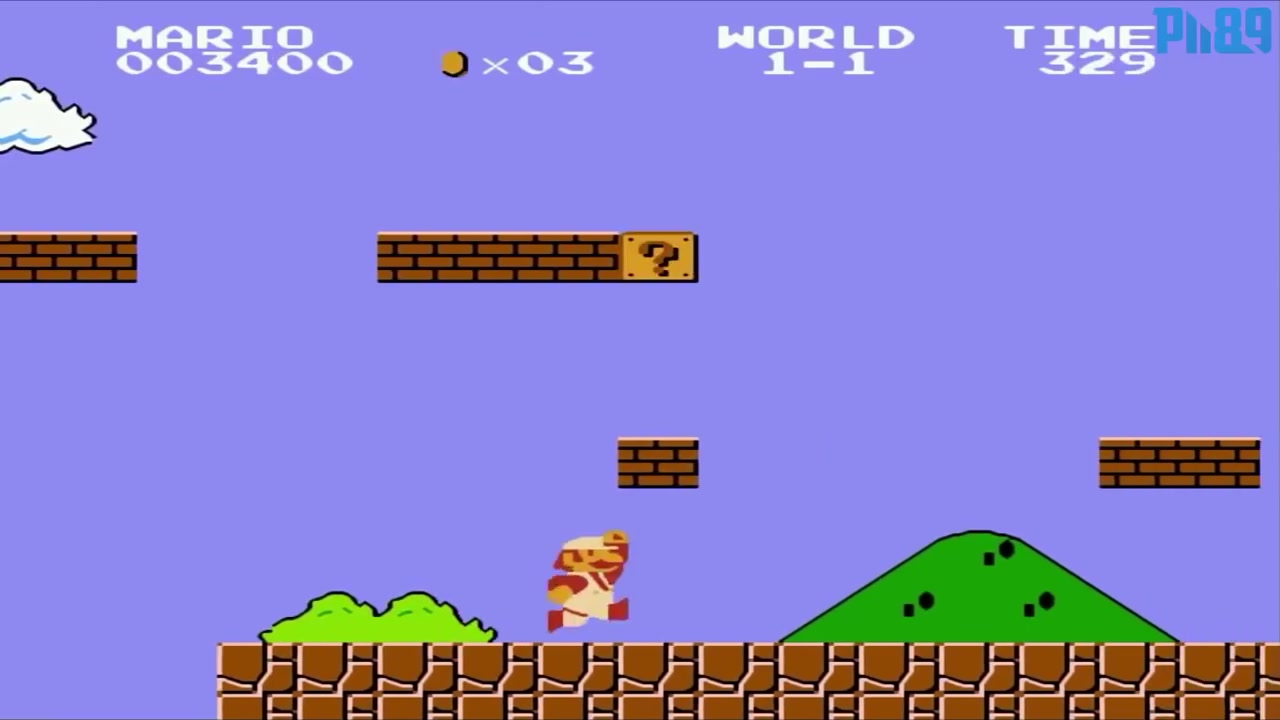mario: (544, 525, 640, 636)
